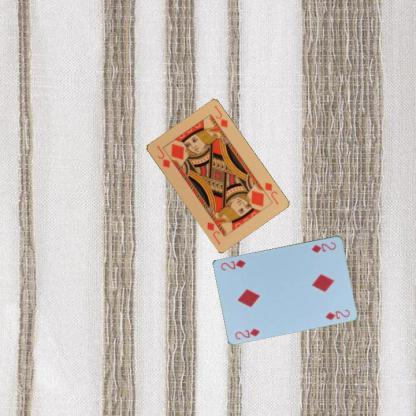2d: (308, 239, 338, 254), (232, 326, 261, 340)
Jd: (262, 180, 280, 206), (154, 143, 171, 169)
